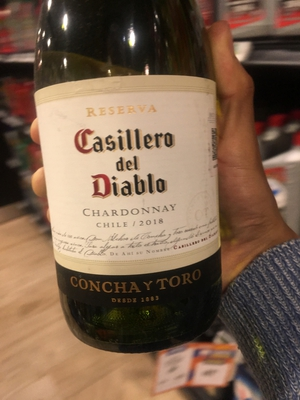casillero del diablo chardonnay: (31, 9, 233, 358)
